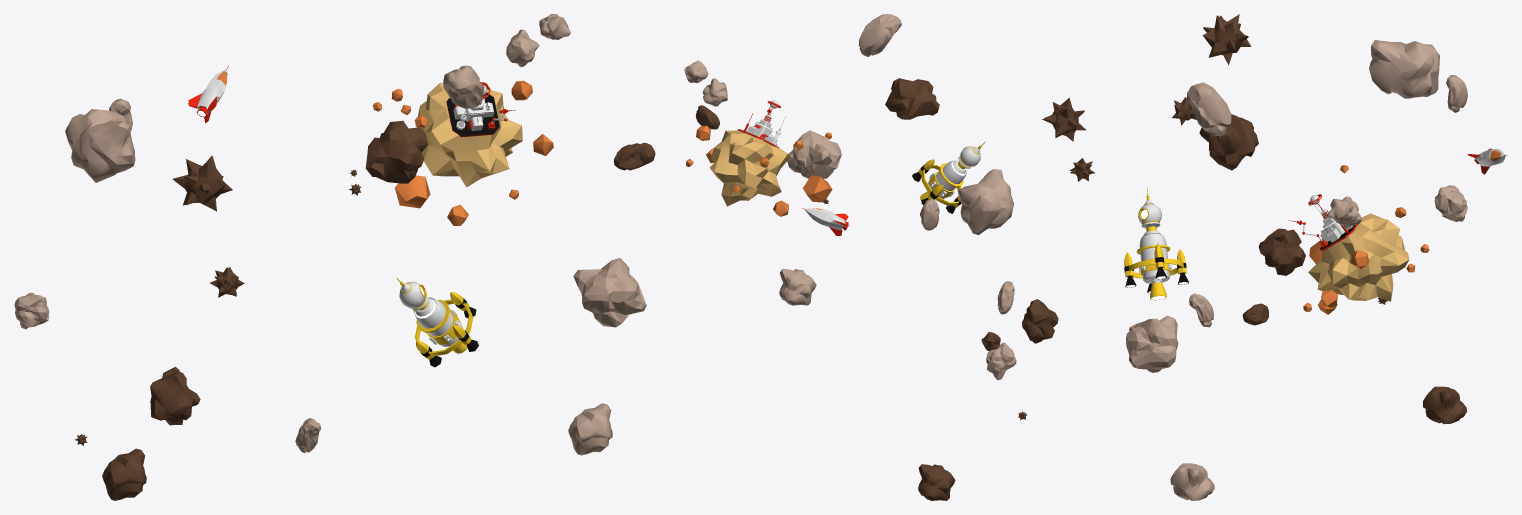
File: space-3d.glb
3 views of the same model, side by side, from view 1: azimuth 30°, elevation 25°; view 2: azimuth 150°, elevation 25°; view 3: azimuth 270°, elevation 25° (orthographic). The views are drawn at different scales.
Parts seen in each view (by area): view 1: Asteroid Large, Asteroid #3 2, Asteroid #3, Asteroid #4 1, Rocks, Asteroid #4, Asteroid #3 3, Asteroid #3 4, Asteroid #1 1, Monocoque, Asteroid #2 3, Frames (+4 smaller); view 2: Asteroid Large, Asteroid #3 2, Asteroid #3, Asteroid #4 1, Rocks, Asteroid #2 3, Asteroid #4, Asteroid #3 3, Asteroid #3 4, Monocoque, Asteroid #1 1, Asteroid #3 1 (+4 smaller); view 3: Asteroid Large, Asteroid #3 2, Asteroid #3, Asteroid #4 1, Asteroid #2 3, Asteroid #4, Asteroid #1 1, Monocoque, Asteroid #3 3, Asteroid #3 4, Rocks, Frames (+6 smaller).
Boxes of the visible parts, left/top/right/bottom form: Asteroid Large: left=417, top=83, right=522, bottom=187; Asteroid #3 2: left=65, top=109, right=135, bottom=182; Asteroid #3: left=573, top=258, right=646, bottom=327; Asteroid #4 1: left=365, top=120, right=428, bottom=183; Rocks: left=373, top=80, right=553, bottom=225; Asteroid #4: left=150, top=370, right=200, bottom=425; Asteroid #3 3: left=568, top=403, right=612, bottom=455; Asteroid #3 4: left=102, top=448, right=146, bottom=500; Asteroid #1 1: left=172, top=155, right=232, bottom=211; Monocoque: left=399, top=281, right=463, bottom=346; Asteroid #2 3: left=443, top=65, right=484, bottom=108; Frames: left=396, top=277, right=473, bottom=356; Asteroid Large: left=709, top=130, right=790, bottom=206; Asteroid #3 2: left=957, top=169, right=1013, bottom=235; Asteroid #3: left=787, top=130, right=841, bottom=178; Asteroid #4 1: left=885, top=78, right=939, bottom=119; Rocks: left=686, top=125, right=832, bottom=216; Asteroid #2 3: left=859, top=14, right=901, bottom=56; Asteroid #4: left=1022, top=299, right=1058, bottom=343; Asteroid #3 3: left=779, top=268, right=816, bottom=305; Asteroid #3 4: left=918, top=464, right=955, bottom=500; Monocoque: left=927, top=146, right=980, bottom=199; Asteroid #1 1: left=1042, top=97, right=1086, bottom=141; Asteroid #3 1: left=986, top=342, right=1016, bottom=380; Asteroid Large: left=1308, top=213, right=1409, bottom=301; Asteroid #3 2: left=1369, top=40, right=1439, bottom=98; Asteroid #3: left=1126, top=315, right=1178, bottom=372; Asteroid #4 1: left=1199, top=114, right=1258, bottom=170; Asteroid #2 3: left=1187, top=82, right=1231, bottom=136; Asteroid #4: left=1258, top=228, right=1305, bottom=275; Asteroid #1 1: left=1202, top=14, right=1251, bottom=65; Monocoque: left=1138, top=200, right=1171, bottom=283; Asteroid #3 3: left=1170, top=463, right=1214, bottom=500; Asteroid #3 4: left=1423, top=386, right=1467, bottom=424; Rocks: left=1303, top=165, right=1429, bottom=314; Frames: left=1129, top=188, right=1183, bottom=300.
Bounding box in the file's own units: 0.3368 × 0.2943 × 0.241.
